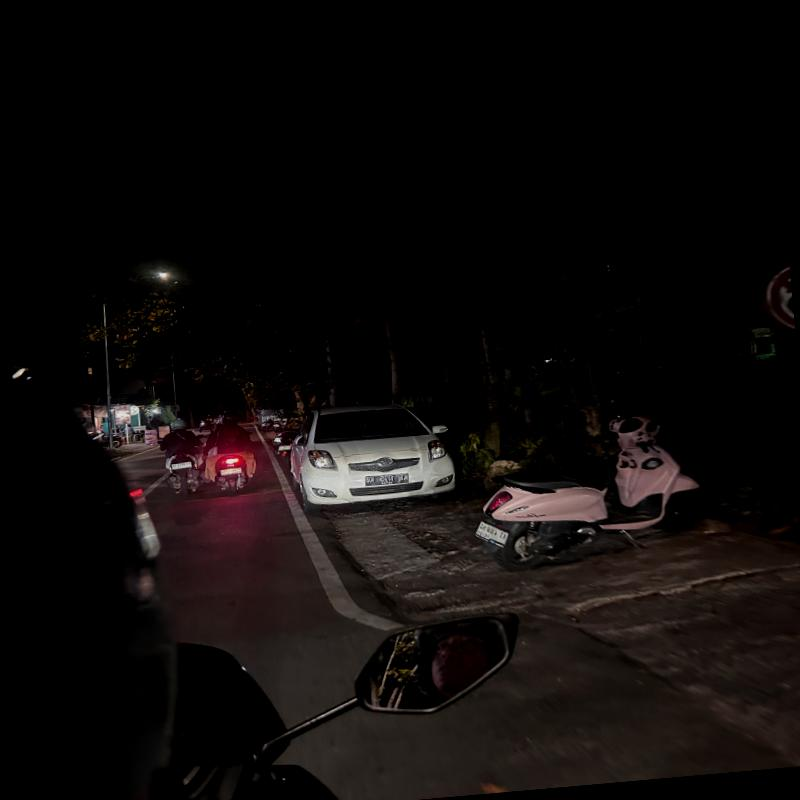license plate on a car: (366, 472, 408, 486)
